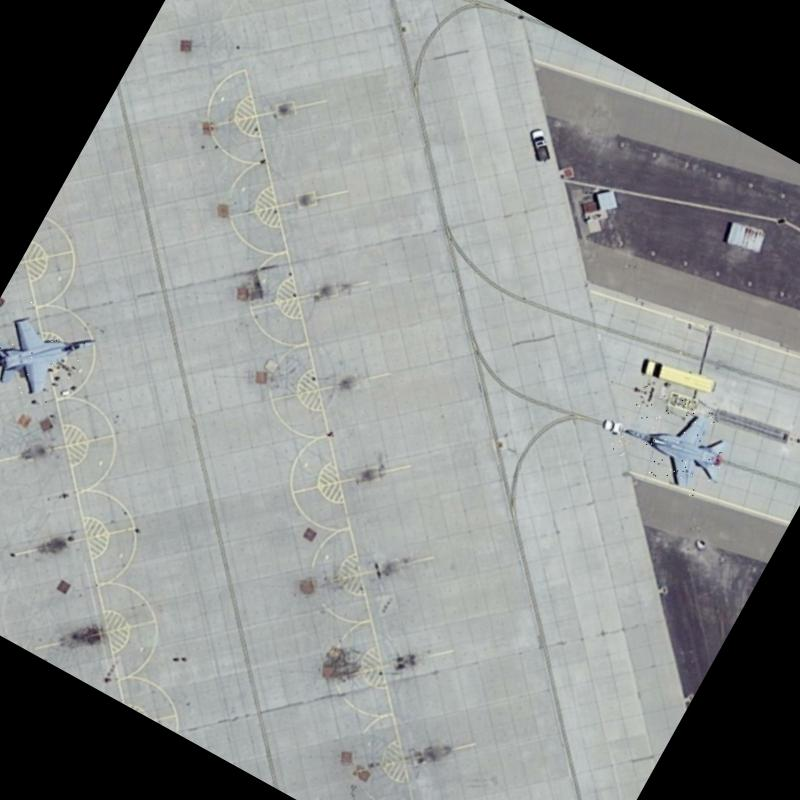A16: (606, 377, 743, 503), (0, 292, 98, 416)
